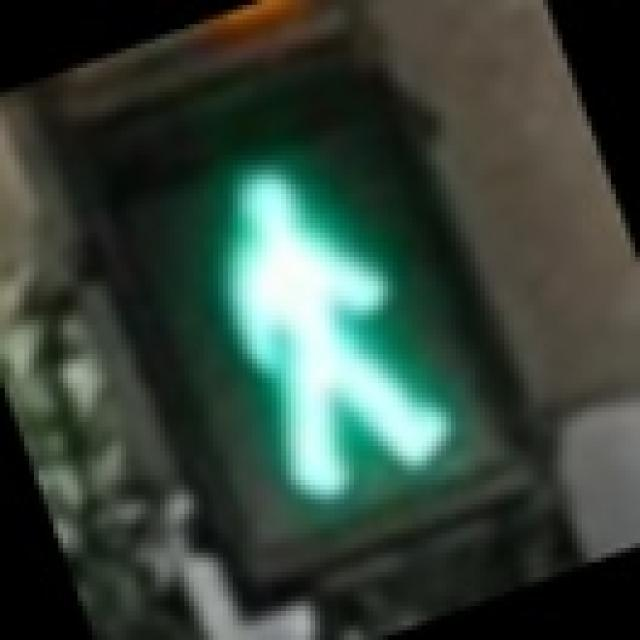geen-crossing: (88, 63, 534, 572)
